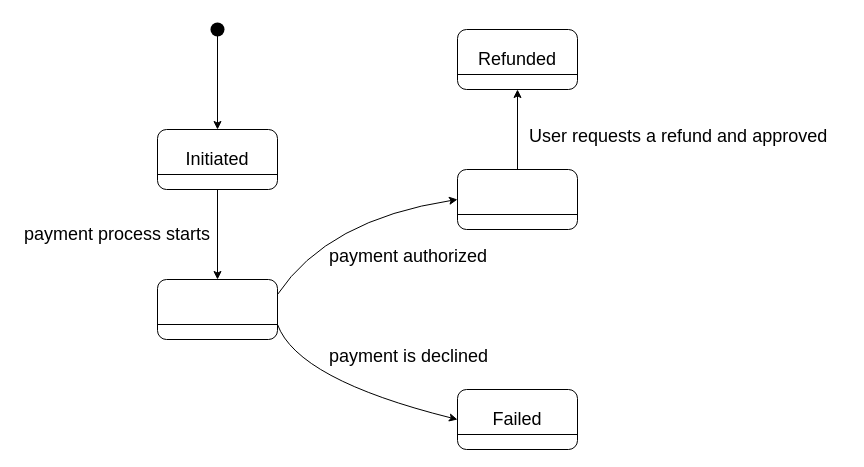
Image size: 864x467. Some labels were removed from this diagram. Here are the shapes that lost their labels. From the top down, the centre of each, then its label:
the point at 517,199: Successful
the point at 217,309: Processing
